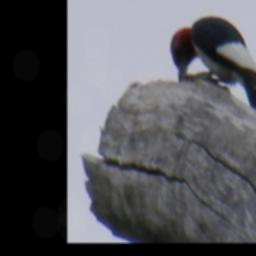Woodpecker: (166, 13, 256, 119)
